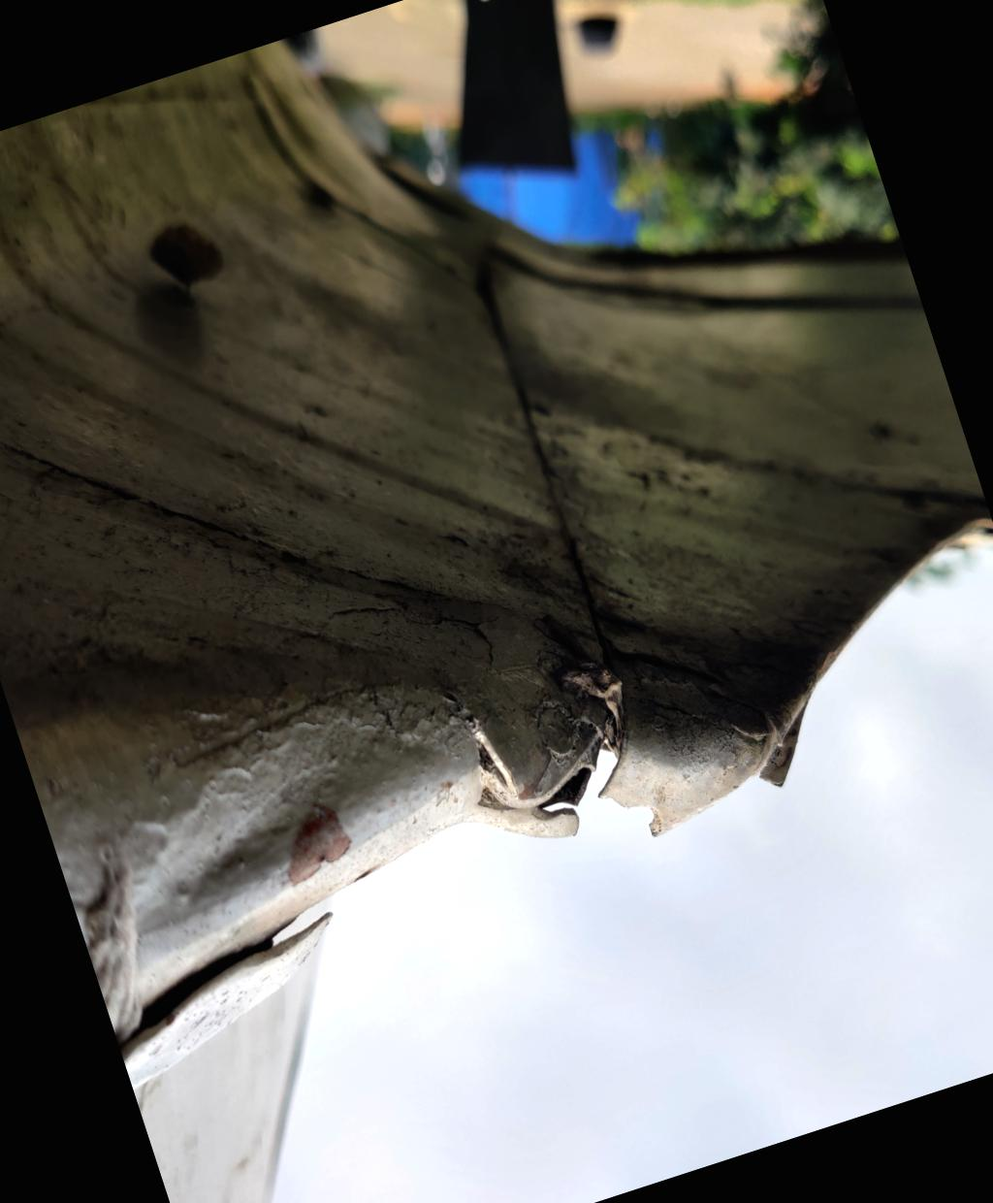crack: (468, 657, 677, 876), (638, 659, 861, 861)
